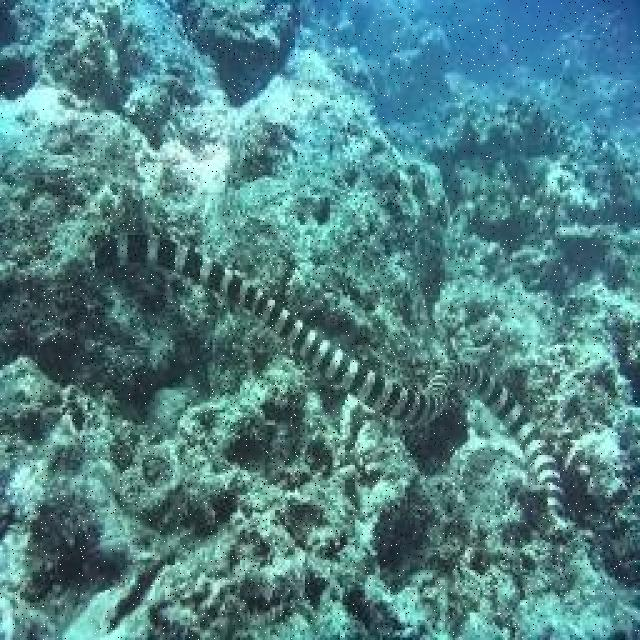reefs: (87, 235, 573, 530)
